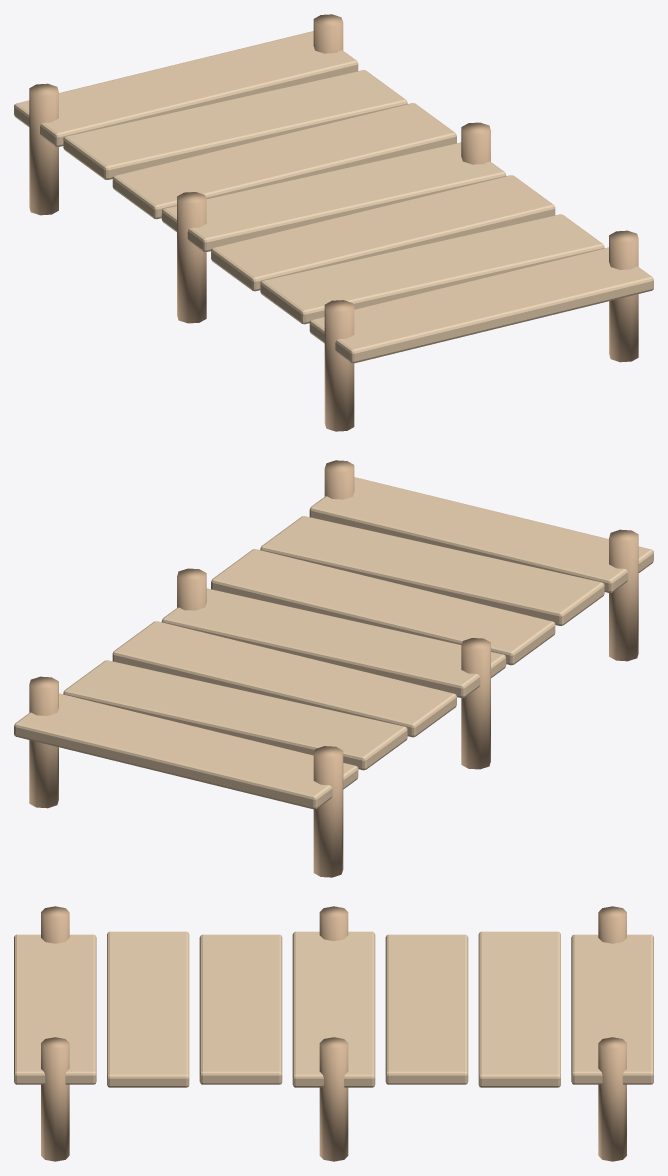
The model's file is dock.glb.
3 views of the same model, one above another, from view 1: azimuth 30°, elevation 25°; view 2: azimuth 150°, elevation 25°; view 3: azimuth 270°, elevation 25° (orthographic). The views are drawn at different scales.
Visible parts, largest first — view 1: dock; view 2: dock; view 3: dock.
Boxes of the visible parts, left/top/right/bottom form: dock: left=14, top=14, right=653, bottom=431; dock: left=14, top=460, right=653, bottom=877; dock: left=14, top=906, right=653, bottom=1161.
Size of the model in its own units: 1.64 by 0.6 by 3.1.
